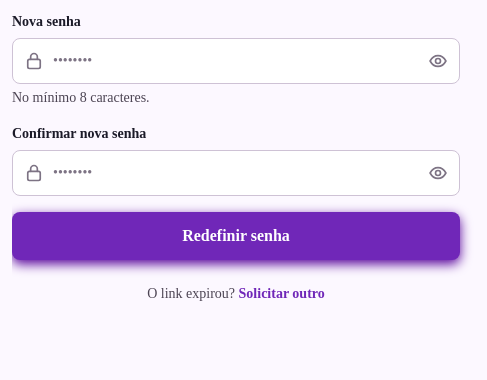
ResetPasswordForm › shows a top-level error
In the password field labelled "Nova senha": [236, 61] box [12,38,460,84], type "longenough1"
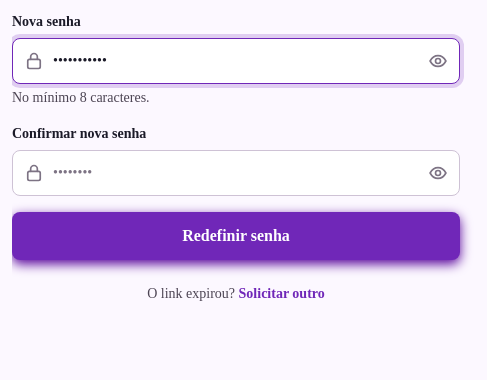
In the password field labelled "Confirmar nova senha": [236, 173] box [12,150,460,196], type "longenough1"
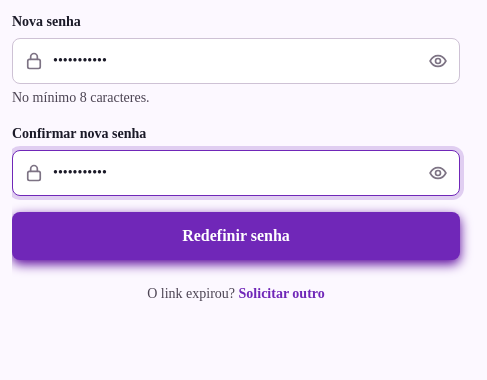
Click the button "Redefinir senha": [236, 236] box [12,212,460,260]
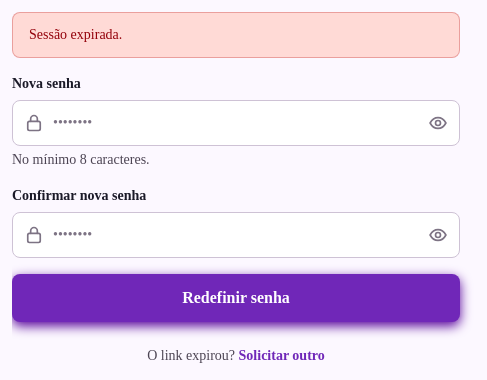
Expected: the message reads "Sessão expirada.", [29,27,122,42]
